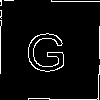G: (24, 24, 68, 72)
